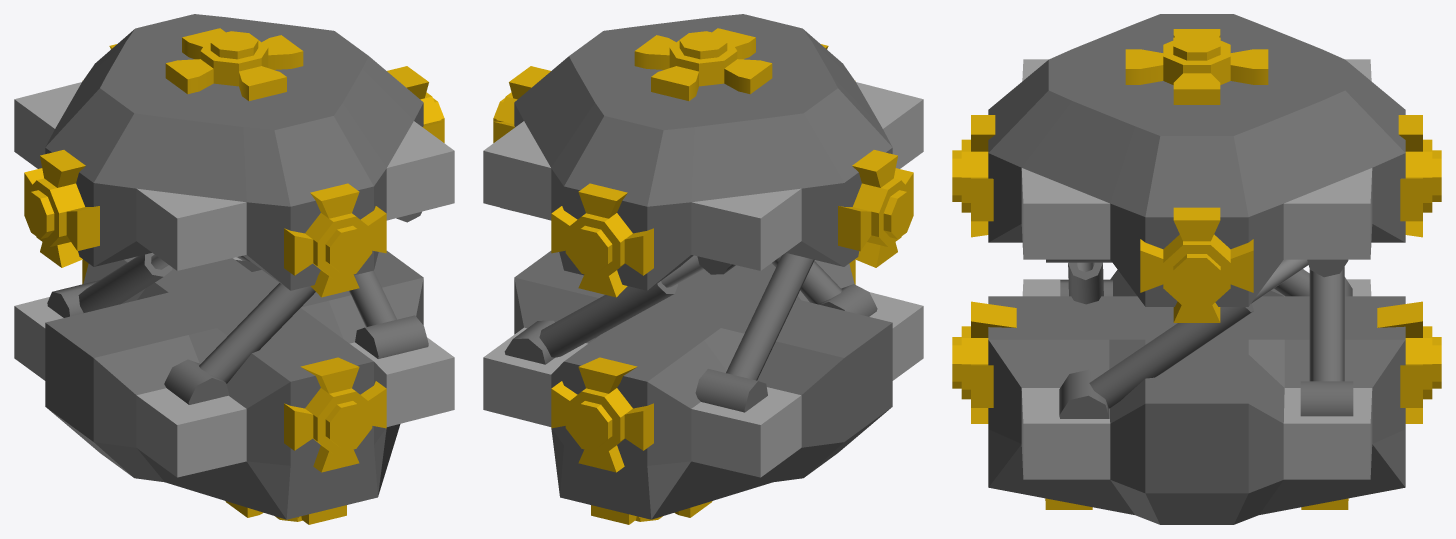
Rendered from Core 1.fbx.
3 renders of one model, left to right at view 1: azimuth 30°, elevation 25°; view 2: azimuth 150°, elevation 25°; view 3: azimuth 270°, elevation 25°, orthographic. The views are drawn at different scales.
Parts seen in each view (by area): view 1: Parts_to_Import_1:Frame_Upper, Parts_to_Import_1:Frame_Lower, Connector_In13, Connector_In11, Connector_In10, Connector_In14, Parts_to_Import_1:Hydrolic_Assembly4:Hydrolic_Tube_Outer, Parts_to_Import_1:Hydrolic_Assembly7:Hydrolic_Tube_Outer, Parts_to_Import_1:Hydrolic_Assembly5:Hydrolic_Connector_B, Parts_to_Import_1:Hydrolic_Assembly4:Hydrolic_Connector_B, Parts_to_Import_1:Hydrolic_Assembly5:Hydrolic_Tube_Outer, Connector_In12 (+2 smaller); view 2: Parts_to_Import_1:Frame_Upper, Parts_to_Import_1:Frame_Lower, Connector_In11, Connector_In13, Connector_In10, Connector_In14, Parts_to_Import_1:Hydrolic_Assembly7:Hydrolic_Tube_Outer, Parts_to_Import_1:Hydrolic_Assembly6:Hydrolic_Tube_Outer, Parts_to_Import_1:Hydrolic_Assembly7:Hydrolic_Connector_B, Connector_In12, Parts_to_Import_1:Hydrolic_Assembly6:Hydrolic_Connector_B, Parts_to_Import_1:Hydrolic_Assembly4:Hydrolic_Tube_Outer (+3 smaller); view 3: Parts_to_Import_1:Frame_Upper, Parts_to_Import_1:Frame_Lower, Connector_In12, Connector_In13 (×2), Connector_In11 (×2), Connector_In10, Parts_to_Import_1:Hydrolic_Assembly5:Hydrolic_Tube_Outer, Parts_to_Import_1:Hydrolic_Assembly6:Hydrolic_Tube_Outer, Parts_to_Import_1:Hydrolic_Assembly6:Hydrolic_Connector_B, Parts_to_Import_1:Hydrolic_Assembly5:Hydrolic_Connector_B, Parts_to_Import_1:Hydrolic_Assembly4:Hydrolic_Tube_Outer, Parts_to_Import_1:Hydrolic_Assembly5:Hydrolic_Tube_Inner (+2 smaller).
Boxes of the visible parts, box(x1,y1,x2,y2) form: Parts_to_Import_1:Frame_Upper: box(14, 14, 454, 290); Parts_to_Import_1:Frame_Lower: box(14, 251, 454, 519); Connector_In13: box(284, 357, 386, 472); Connector_In11: box(284, 183, 386, 297); Connector_In10: box(165, 28, 303, 100); Connector_In14: box(24, 150, 99, 267); Parts_to_Import_1:Hydrolic_Assembly4:Hydrolic_Tube_Outer: box(199, 283, 315, 383); Parts_to_Import_1:Hydrolic_Assembly7:Hydrolic_Tube_Outer: box(78, 253, 172, 312); Parts_to_Import_1:Hydrolic_Assembly5:Hydrolic_Connector_B: box(355, 315, 428, 358); Parts_to_Import_1:Hydrolic_Assembly4:Hydrolic_Connector_B: box(164, 359, 229, 404); Parts_to_Import_1:Hydrolic_Assembly5:Hydrolic_Tube_Outer: box(348, 270, 396, 327); Connector_In12: box(387, 66, 444, 142); Parts_to_Import_1:Frame_Upper: box(483, 14, 923, 290); Parts_to_Import_1:Frame_Lower: box(483, 251, 923, 519); Connector_In11: box(551, 357, 653, 472); Connector_In13: box(551, 183, 653, 297); Connector_In10: box(634, 28, 772, 100); Connector_In14: box(838, 150, 913, 267); Parts_to_Import_1:Hydrolic_Assembly7:Hydrolic_Tube_Outer: box(726, 253, 814, 380); Parts_to_Import_1:Hydrolic_Assembly6:Hydrolic_Tube_Outer: box(539, 281, 677, 357); Parts_to_Import_1:Hydrolic_Assembly7:Hydrolic_Connector_B: box(695, 369, 767, 412); Connector_In12: box(493, 66, 550, 142); Parts_to_Import_1:Hydrolic_Assembly6:Hydrolic_Connector_B: box(504, 320, 554, 364); Parts_to_Import_1:Hydrolic_Assembly4:Hydrolic_Tube_Outer: box(772, 256, 842, 304); Parts_to_Import_1:Frame_Upper: box(988, 14, 1405, 306); Parts_to_Import_1:Frame_Lower: box(988, 269, 1405, 524); Connector_In12: box(1140, 207, 1253, 322); Connector_In13 (×2): box(952, 115, 1441, 423); Connector_In11 (×2): box(952, 115, 1441, 423); Connector_In10: box(1125, 29, 1268, 104); Parts_to_Import_1:Hydrolic_Assembly5:Hydrolic_Tube_Outer: box(1089, 304, 1253, 408); Parts_to_Import_1:Hydrolic_Assembly6:Hydrolic_Tube_Outer: box(1309, 267, 1344, 381); Parts_to_Import_1:Hydrolic_Assembly6:Hydrolic_Connector_B: box(1300, 381, 1353, 416); Parts_to_Import_1:Hydrolic_Assembly5:Hydrolic_Connector_B: box(1059, 369, 1109, 418); Parts_to_Import_1:Hydrolic_Assembly4:Hydrolic_Tube_Outer: box(1068, 262, 1103, 304); Parts_to_Import_1:Hydrolic_Assembly5:Hydrolic_Tube_Inner: box(1251, 259, 1308, 303).
Bounding box in the file's own units: 10.27 × 10.52 × 10.27.
